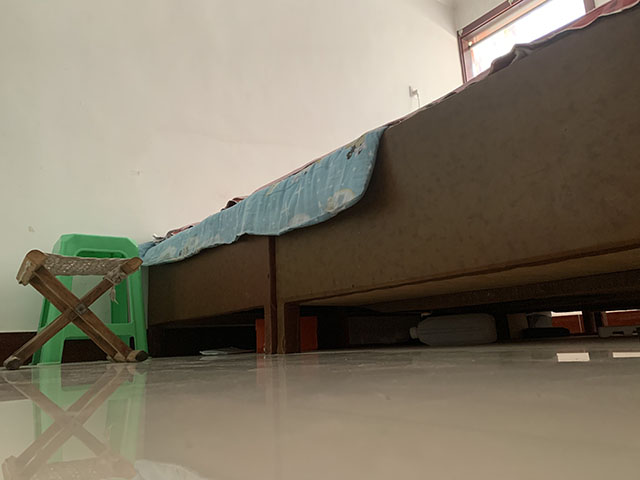bed: (138, 1, 639, 357)
stool: (2, 249, 150, 372), (28, 233, 149, 367)
